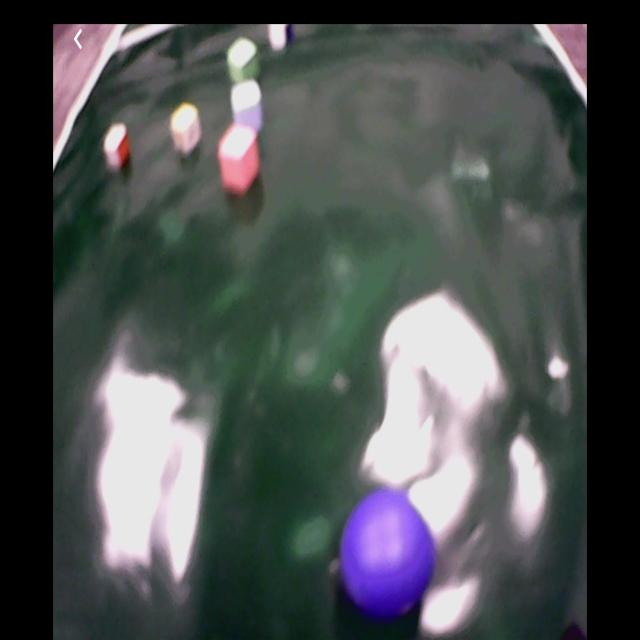ball: (343, 495, 438, 615)
